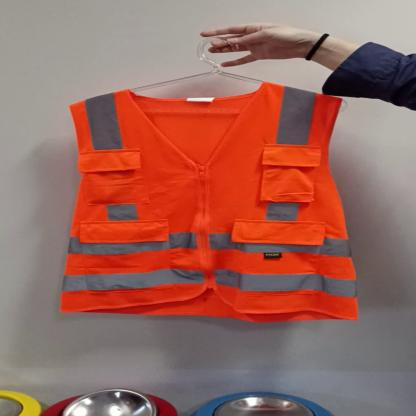colete: (56, 76, 364, 324)
